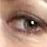eye: (24, 20, 37, 29)
